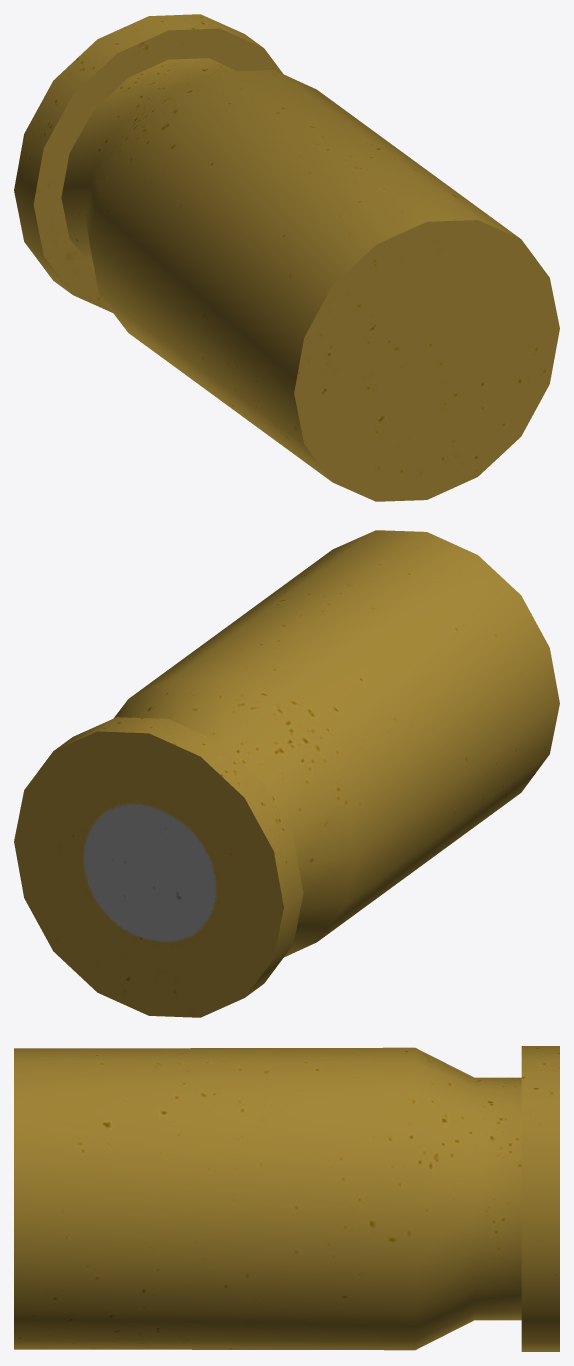
The model's file is Bullet.fbx.
3 views of the same model, one above another, from view 1: azimuth 30°, elevation 25°; view 2: azimuth 150°, elevation 25°; view 3: azimuth 270°, elevation 25° (orthographic).
Visible parts, largest first — view 1: other\bullets.smd.002; view 2: other\bullets.smd.002; view 3: other\bullets.smd.002.
Part boxes in pixels (left/top/right/bottom): other\bullets.smd.002: left=14, top=14, right=559, bottom=501; other\bullets.smd.002: left=14, top=530, right=559, bottom=1017; other\bullets.smd.002: left=14, top=1046, right=559, bottom=1351.
Size of the model in its own units: 40.58 by 40.58 by 72.39.
